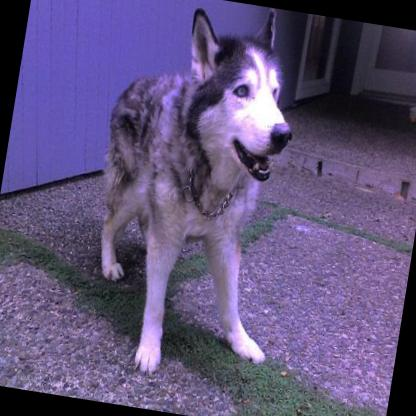Siberian_husky: (68, 0, 319, 394)
